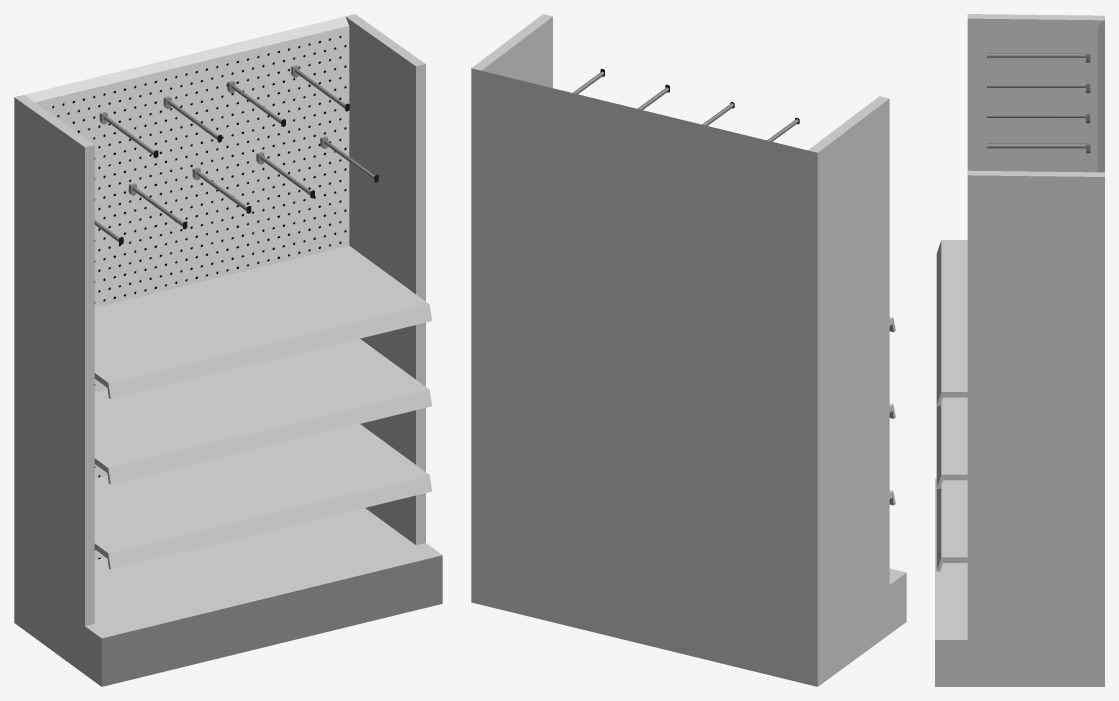
The model's file is ray_store_standard_004.FBX.
3 views of the same model, side by side, from view 1: azimuth 30°, elevation 25°; view 2: azimuth 150°, elevation 25°; view 3: azimuth 270°, elevation 25° (orthographic). The views are drawn at different scales.
Visible parts, largest first — view 1: ray_store_standard_004; view 2: ray_store_standard_004; view 3: ray_store_standard_004.
Boxes of the visible parts, <box> form: ray_store_standard_004: <box>14,14,442,686</box>; ray_store_standard_004: <box>471,14,906,686</box>; ray_store_standard_004: <box>935,14,1104,686</box>.
Size of the model in its own units: 1.39 by 2.05 by 0.6164.
